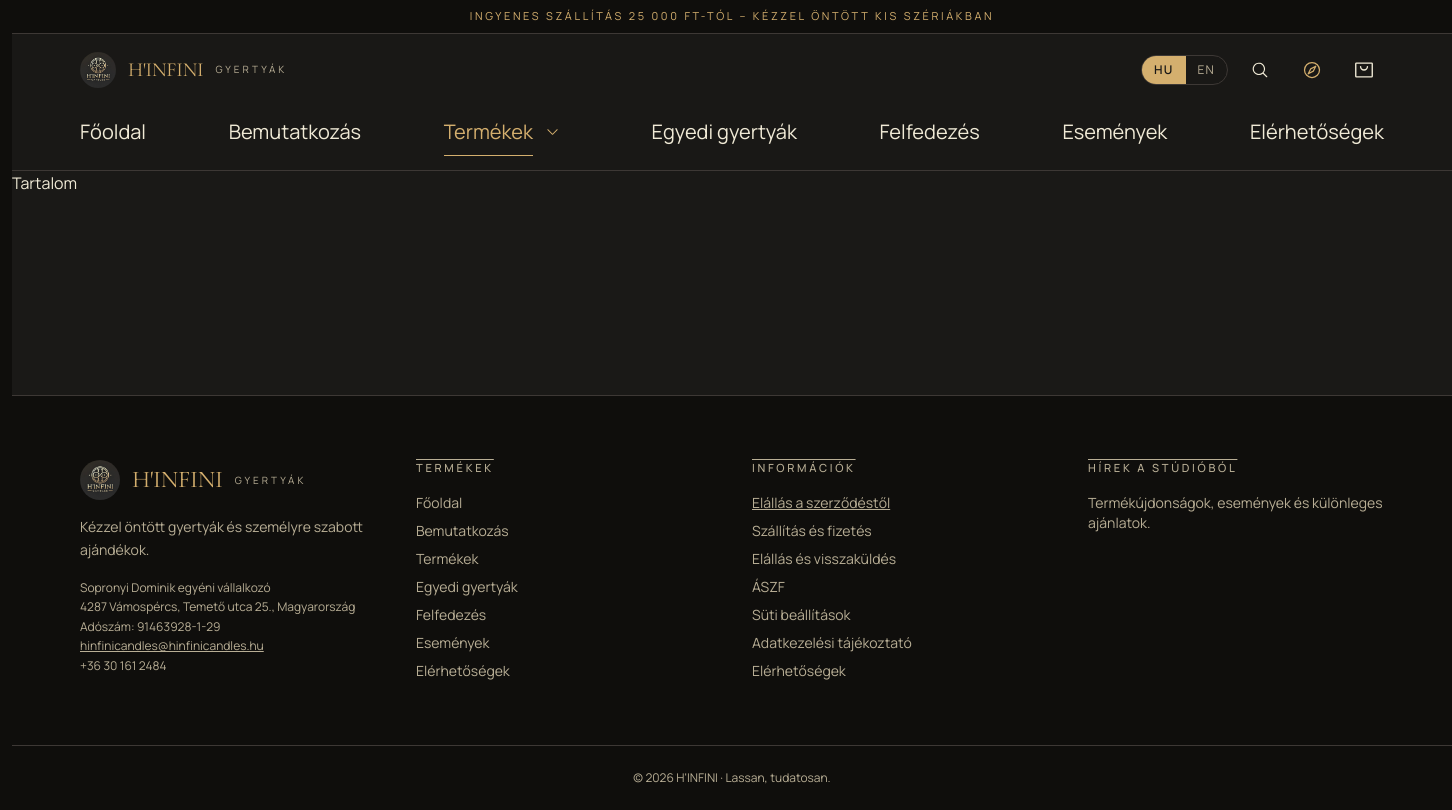
Test: active section persists on product pages and categories open directly
The image size is (1452, 810).
Click the button named "Szűrők" at [553, 132], box [537,112,569,152]
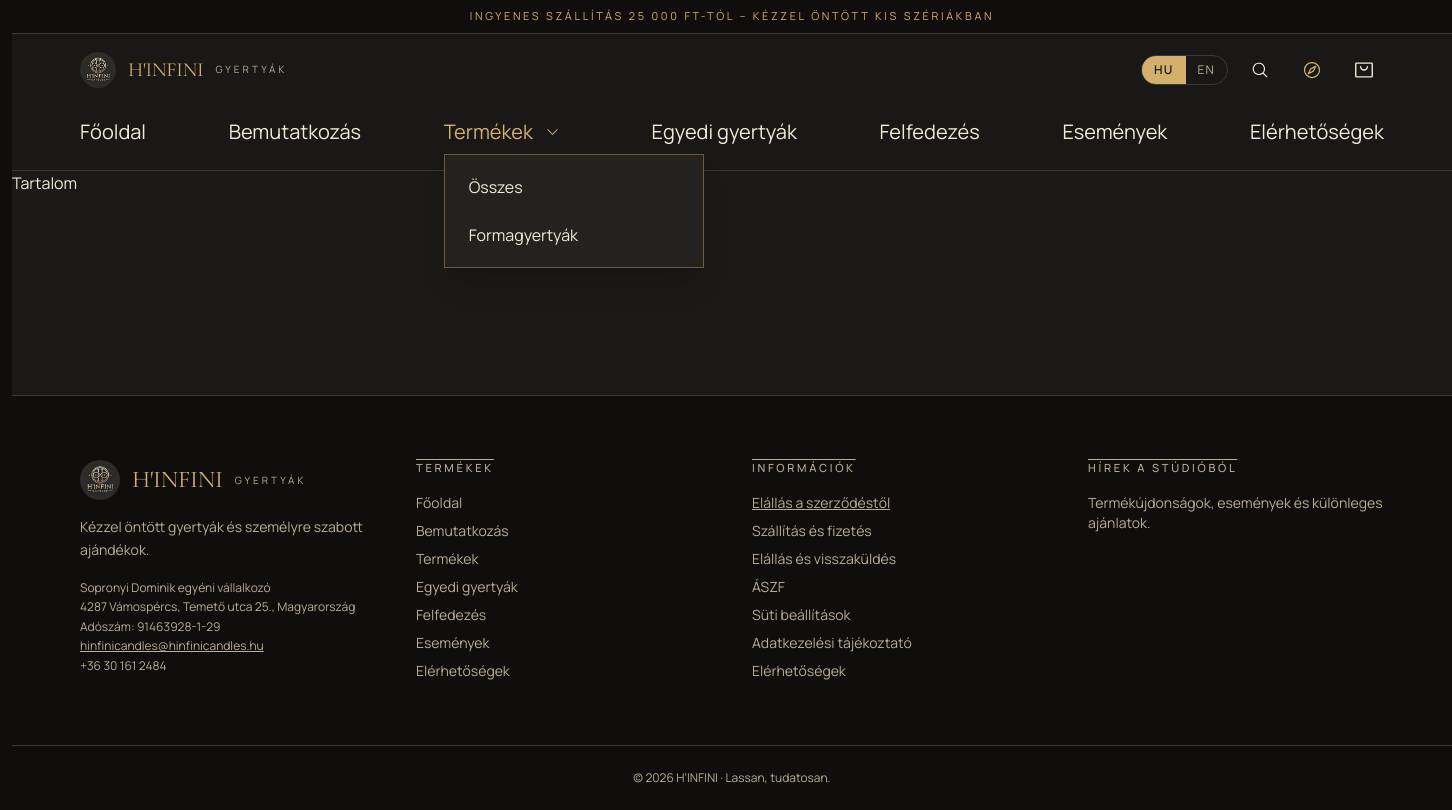
Now the link to "/shop?category=forma-gyertyak" reads "Formagyertyák"
Click the link to "/shop?category=forma-gyertyak" at [523, 234], box [469,224,578,246]
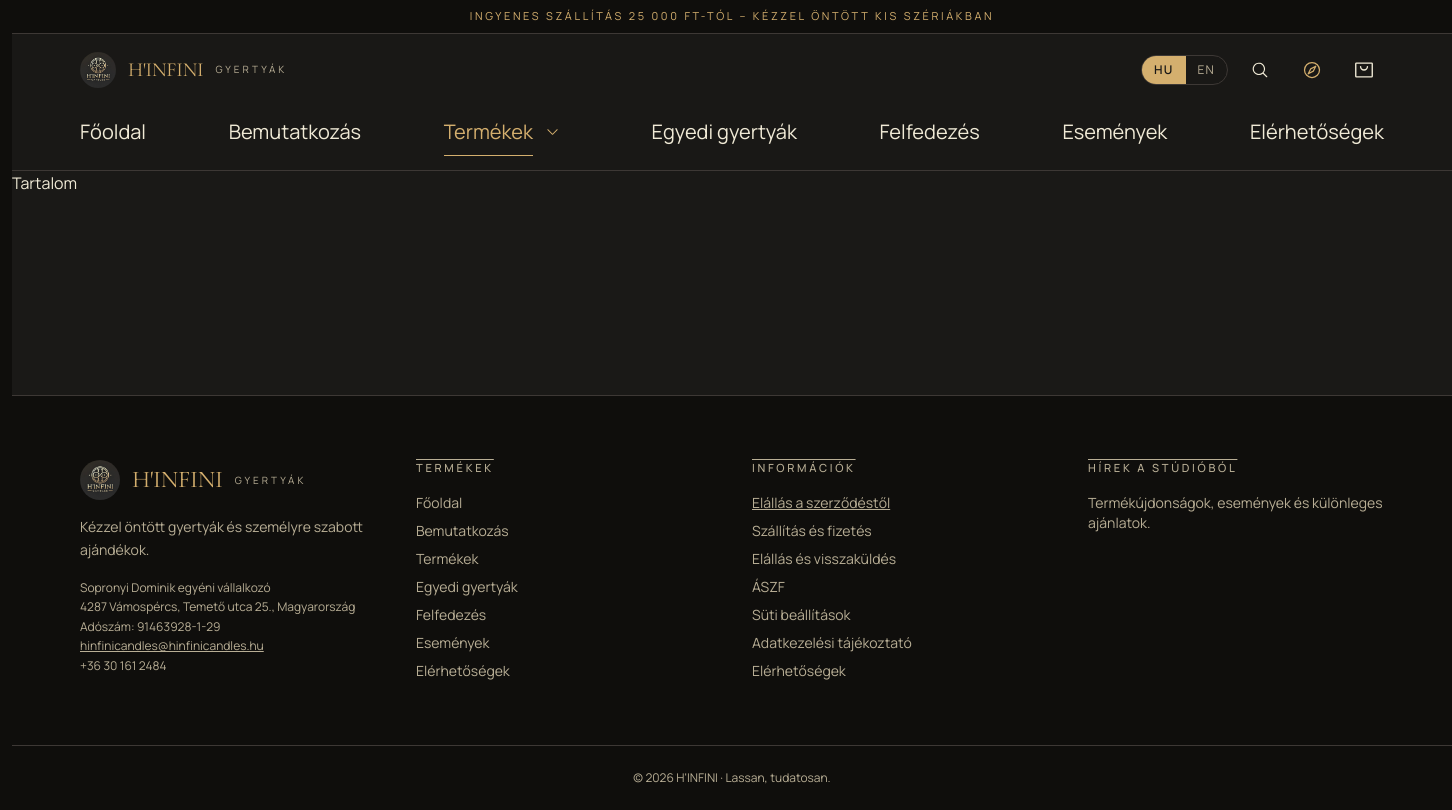
Now the element with id "shop-category-menu" is gone
Click the link with test id "nav-about" at [295, 132], box [229,110,361,154]
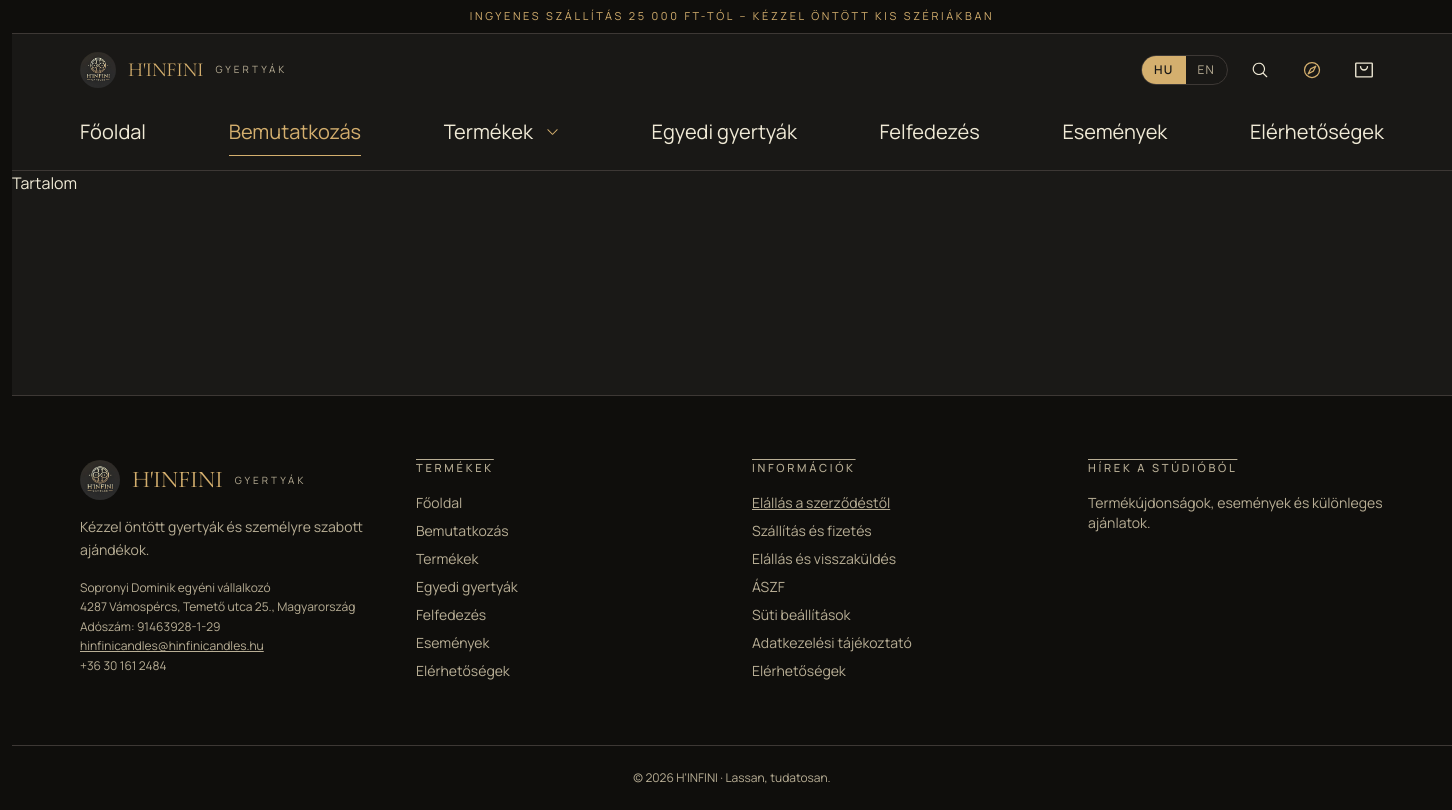
Now the link with test id "nav-about" is marked as current, box [229,110,361,154]
Now the link with test id "nav-shop" does not have attribute aria-current, box [444,110,533,154]
